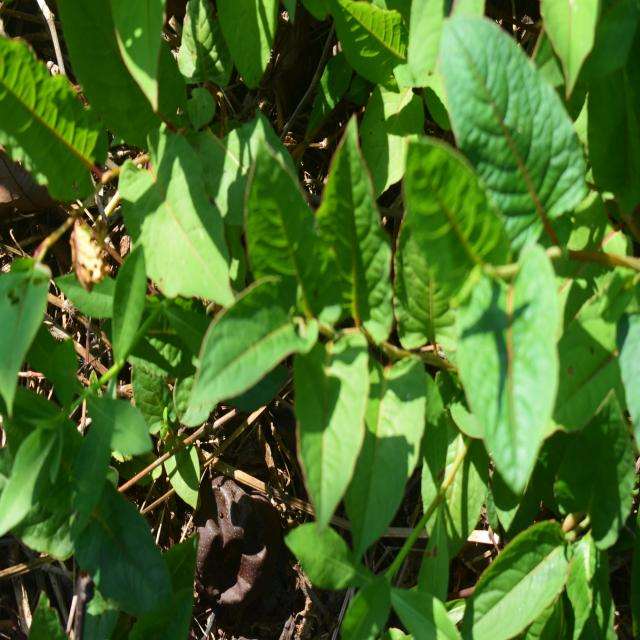Chinese_knotweed: (210, 128, 395, 496)
